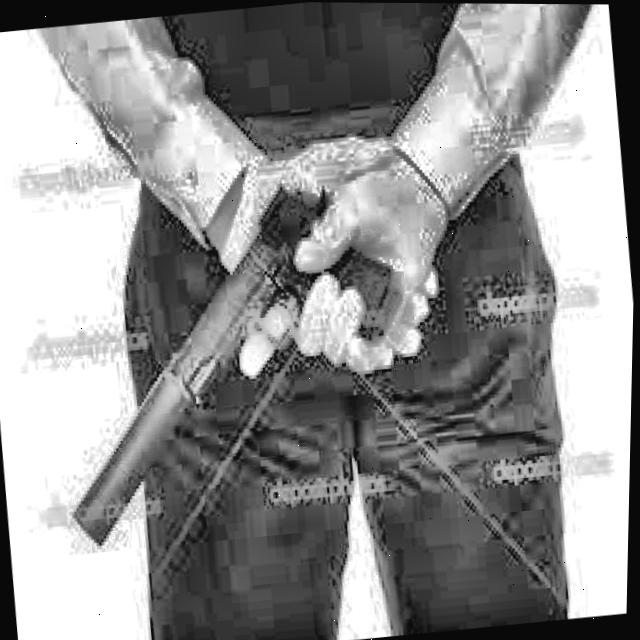pistol: (62, 168, 441, 560)
